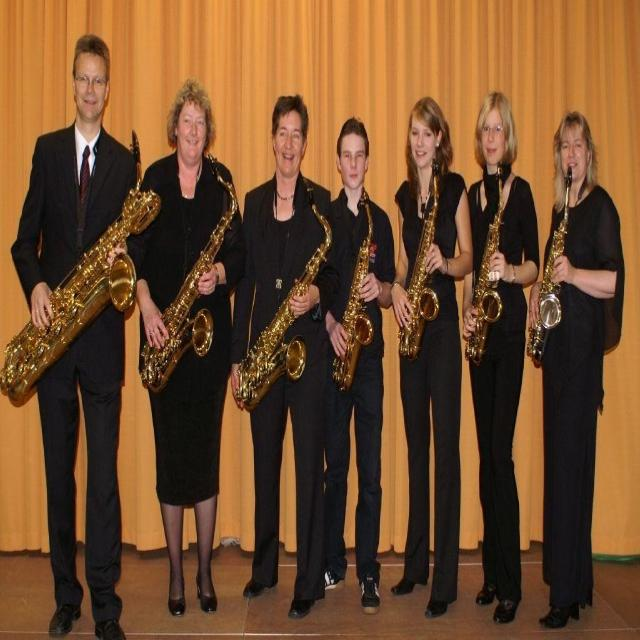saxophone: (0, 130, 162, 404), (140, 152, 238, 396), (234, 180, 334, 414), (332, 181, 384, 392), (461, 156, 508, 373), (396, 158, 446, 361), (525, 164, 575, 364)
